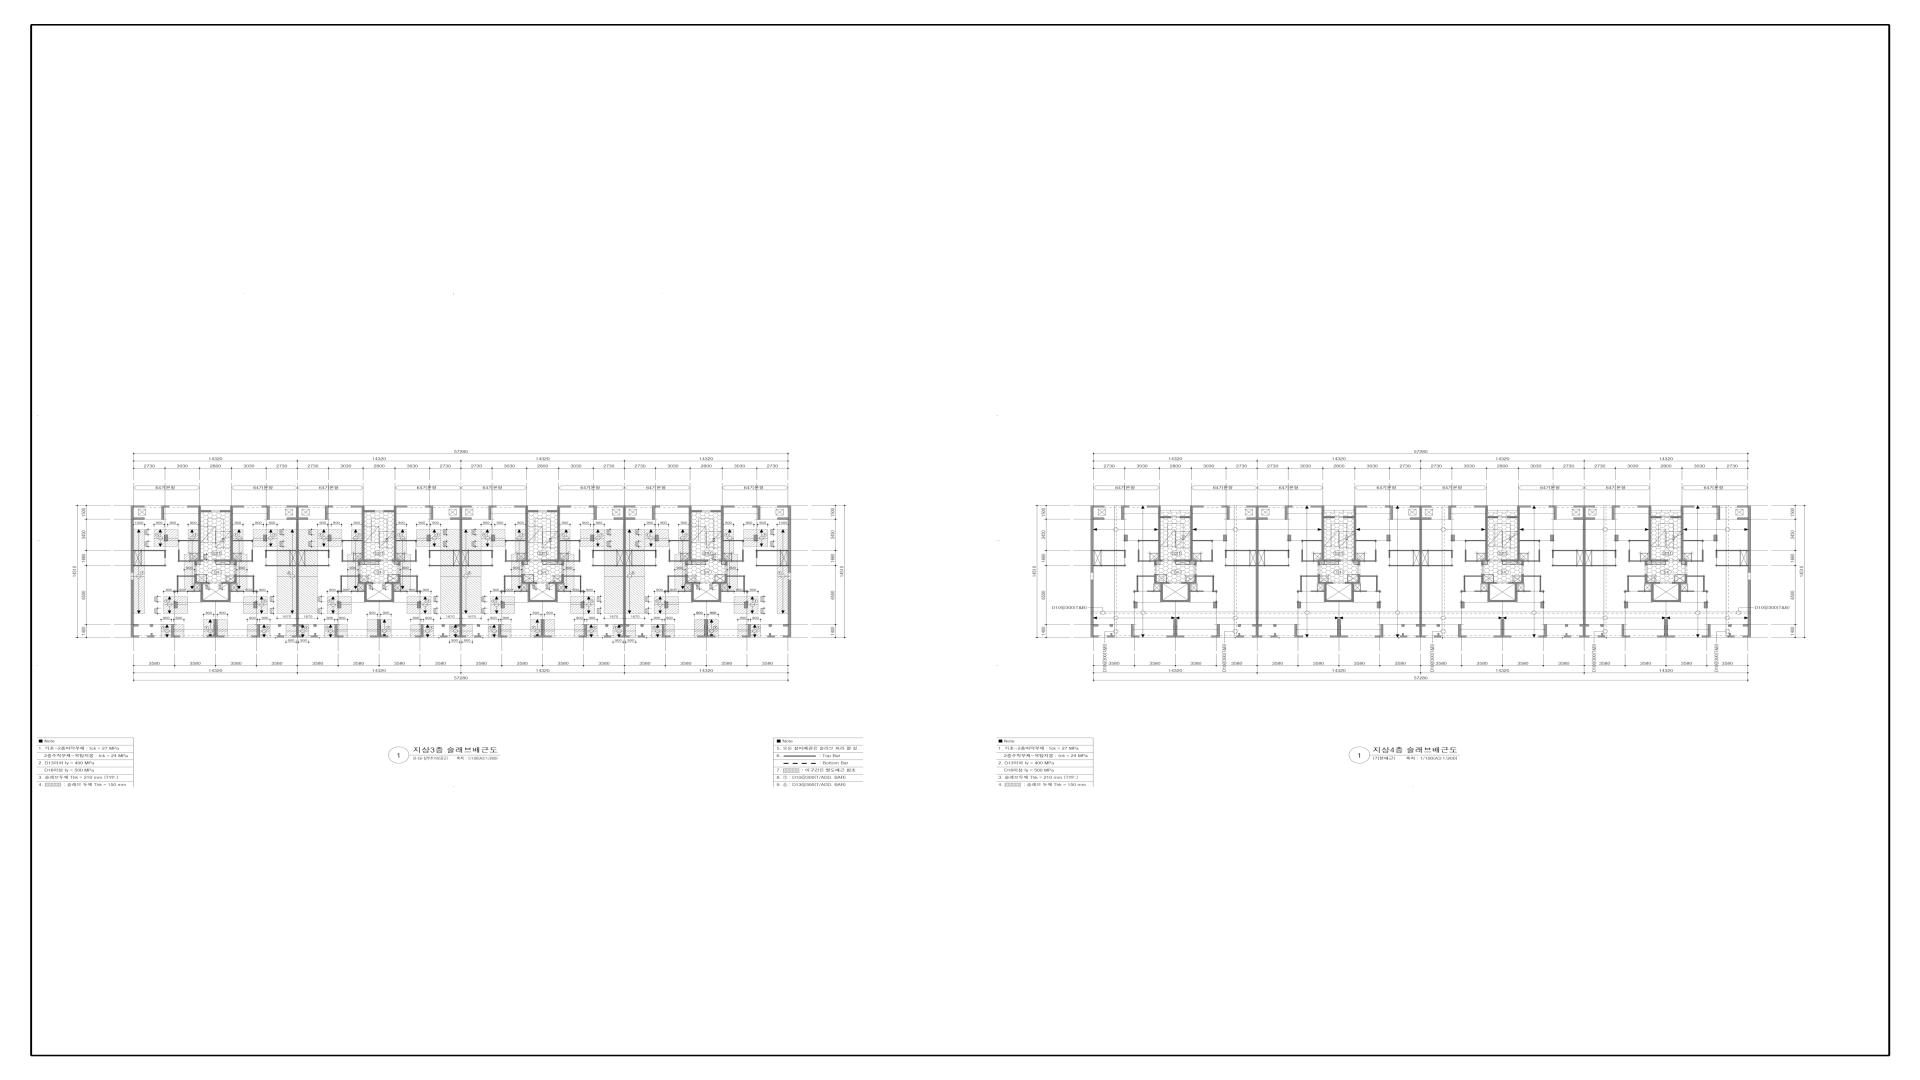wall: (1737, 506, 1751, 572), (778, 506, 791, 572), (230, 505, 244, 565), (1190, 505, 1204, 565), (557, 506, 571, 565), (721, 506, 735, 565), (678, 506, 692, 565), (1517, 506, 1531, 565), (394, 505, 407, 565), (1354, 505, 1367, 565), (351, 506, 364, 565), (515, 506, 528, 565), (1311, 506, 1324, 565), (1475, 506, 1488, 565), (1681, 506, 1694, 565), (1638, 506, 1651, 565), (198, 510, 211, 560), (712, 574, 728, 602), (1481, 574, 1497, 602), (194, 574, 209, 602), (222, 574, 237, 602), (358, 574, 373, 602), (385, 574, 400, 602), (522, 574, 537, 602), (685, 574, 700, 602), (549, 574, 564, 602), (1154, 574, 1169, 602), (1182, 574, 1197, 602), (1318, 574, 1333, 602), (1345, 574, 1360, 602), (1645, 574, 1660, 602), (1509, 574, 1524, 602), (1672, 574, 1687, 602), (1657, 619, 1675, 638), (1330, 619, 1348, 637), (698, 619, 715, 638), (623, 520, 626, 624), (1583, 520, 1586, 624), (207, 619, 224, 637), (371, 619, 388, 637), (534, 619, 551, 637), (1167, 619, 1184, 637), (1494, 619, 1511, 637), (296, 524, 299, 620), (1256, 524, 1259, 620), (756, 550, 789, 558), (1716, 550, 1748, 558), (287, 506, 308, 518), (450, 506, 471, 518), (614, 506, 635, 518), (1247, 506, 1268, 518), (1410, 506, 1431, 518), (1574, 506, 1595, 518), (429, 550, 460, 558), (592, 550, 623, 558), (462, 550, 493, 558), (1389, 550, 1420, 558), (1552, 550, 1583, 558), (1422, 550, 1453, 558), (626, 550, 656, 558), (1586, 550, 1616, 558), (460, 520, 462, 624), (1420, 520, 1422, 624), (400, 550, 417, 562), (1687, 550, 1704, 562), (178, 550, 194, 562), (237, 550, 253, 562), (342, 550, 358, 562), (505, 550, 521, 562), (669, 550, 685, 562), (564, 550, 580, 562), (728, 550, 744, 562), (1138, 550, 1154, 562), (1197, 550, 1213, 562), (1302, 550, 1318, 562), (1465, 550, 1481, 562), (1629, 550, 1645, 562), (1360, 550, 1376, 562), (1524, 550, 1540, 562), (292, 620, 302, 637), (1252, 620, 1262, 637), (1158, 510, 1161, 560), (1748, 580, 1751, 624), (456, 624, 466, 637), (1416, 624, 1426, 637), (171, 624, 180, 637), (498, 624, 507, 637), (742, 624, 751, 637), (620, 624, 629, 637), (1211, 624, 1220, 637), (1580, 624, 1589, 637), (262, 506, 270, 520), (325, 506, 333, 520), (652, 506, 660, 520), (425, 506, 433, 520), (589, 506, 597, 520), (1121, 506, 1129, 520), (1612, 506, 1620, 520), (1385, 506, 1393, 520), (1549, 506, 1557, 520), (131, 520, 133, 572), (252, 624, 260, 637), (335, 624, 343, 637), (662, 624, 670, 637), (415, 624, 423, 637), (579, 624, 587, 637), (783, 624, 791, 637), (1091, 520, 1093, 572), (1131, 624, 1139, 637), (1295, 624, 1303, 637), (1458, 624, 1466, 637), (1622, 624, 1630, 637), (1375, 624, 1383, 637), (1539, 624, 1547, 637), (1702, 624, 1710, 637), (1743, 624, 1751, 637), (162, 506, 169, 520), (489, 506, 496, 520), (753, 506, 760, 520), (1222, 506, 1229, 520), (1285, 506, 1292, 520), (1449, 506, 1456, 520), (1713, 506, 1720, 520), (131, 580, 133, 624), (131, 626, 139, 637), (789, 580, 791, 624), (1091, 580, 1093, 624), (1091, 626, 1098, 637), (530, 600, 555, 602), (694, 600, 719, 602), (203, 600, 228, 602), (367, 600, 392, 602), (1490, 600, 1515, 602), (1654, 600, 1679, 602), (1163, 600, 1188, 602), (1326, 600, 1351, 602), (194, 560, 203, 565), (450, 518, 472, 520), (287, 518, 308, 520), (614, 518, 635, 520), (396, 540, 417, 542), (505, 540, 526, 542), (1247, 518, 1268, 520), (1410, 518, 1431, 520), (1574, 518, 1595, 520), (1683, 540, 1704, 542), (178, 540, 198, 542), (233, 540, 253, 542), (342, 540, 362, 542), (560, 540, 580, 542), (724, 540, 744, 542), (669, 540, 689, 542), (1138, 540, 1158, 542), (1154, 560, 1162, 565), (1193, 540, 1213, 542), (1302, 540, 1322, 542), (1356, 540, 1376, 542), (1520, 540, 1540, 542), (1465, 540, 1485, 542), (1629, 540, 1649, 542), (131, 517, 144, 520), (1091, 517, 1104, 520), (1727, 633, 1734, 638), (364, 560, 381, 562), (1651, 560, 1668, 562), (133, 550, 166, 551), (133, 565, 166, 566), (778, 517, 789, 520), (756, 565, 789, 566), (1093, 550, 1126, 551), (1093, 565, 1126, 566), (1737, 517, 1748, 520), (214, 560, 230, 562), (541, 560, 557, 562), (692, 560, 708, 562), (1174, 560, 1190, 562), (1324, 560, 1340, 562), (1716, 565, 1748, 566), (1501, 560, 1517, 562), (265, 550, 296, 551), (265, 565, 296, 566), (429, 565, 460, 566), (592, 565, 623, 566), (462, 565, 493, 566), (1225, 550, 1256, 551), (1225, 565, 1256, 566), (1258, 565, 1289, 566), (1389, 565, 1420, 566), (1552, 565, 1583, 566), (1422, 565, 1453, 566), (768, 633, 774, 638), (299, 550, 329, 551), (299, 565, 329, 566), (626, 565, 656, 566), (1259, 550, 1289, 551), (1586, 565, 1616, 566), (147, 633, 154, 637), (174, 601, 178, 608), (277, 633, 284, 637), (311, 633, 318, 637), (474, 633, 481, 637), (638, 633, 645, 637), (604, 633, 611, 637), (337, 601, 341, 608), (501, 601, 505, 608), (417, 601, 421, 608), (744, 601, 748, 608), (416, 577, 418, 591), (1107, 633, 1114, 637), (1213, 601, 1217, 608), (1237, 633, 1244, 637), (1434, 633, 1441, 637), (1598, 633, 1605, 637), (1400, 633, 1407, 637), (1564, 633, 1571, 637), (1300, 577, 1302, 591), (1297, 601, 1301, 608), (1624, 601, 1628, 608), (1377, 601, 1381, 608), (1704, 601, 1708, 608), (1376, 577, 1378, 591), (1627, 577, 1629, 591), (1703, 577, 1705, 591), (164, 535, 168, 541), (263, 535, 267, 541), (441, 633, 447, 637), (427, 535, 431, 541), (491, 535, 495, 541), (655, 535, 659, 541), (754, 535, 758, 541), (1124, 535, 1128, 541), (1223, 535, 1227, 541), (1271, 633, 1277, 637), (1451, 535, 1455, 541), (1550, 535, 1554, 541), (1714, 535, 1718, 541), (131, 507, 133, 518), (220, 510, 231, 512), (364, 510, 375, 512), (547, 510, 558, 512), (691, 510, 702, 512), (1091, 507, 1093, 518), (1651, 516, 1662, 518), (254, 601, 257, 608), (665, 601, 668, 608), (581, 601, 584, 608), (1134, 601, 1137, 608), (1461, 601, 1464, 608), (1541, 601, 1544, 608), (384, 510, 394, 512), (528, 510, 538, 512), (711, 510, 721, 512), (1161, 516, 1171, 518), (1180, 516, 1190, 518), (1324, 516, 1334, 518), (1344, 516, 1354, 518), (1488, 516, 1498, 518), (1507, 516, 1517, 518), (1671, 516, 1681, 518), (328, 535, 331, 541), (591, 535, 594, 541), (400, 576, 418, 577), (504, 576, 522, 577), (1288, 535, 1291, 541), (1387, 535, 1390, 541), (1615, 535, 1618, 541), (1300, 576, 1318, 577), (1360, 576, 1378, 577), (1687, 576, 1705, 577), (177, 576, 194, 577), (237, 576, 254, 577), (341, 576, 358, 577), (564, 576, 581, 577), (668, 576, 685, 577), (728, 576, 745, 577), (1137, 576, 1154, 577), (1197, 576, 1214, 577), (1464, 576, 1481, 577), (1524, 576, 1541, 577), (1628, 576, 1645, 577), (164, 551, 166, 558), (131, 624, 138, 626), (187, 506, 201, 507), (177, 577, 178, 591), (187, 591, 201, 592), (253, 577, 254, 591), (230, 591, 244, 592), (265, 551, 267, 558), (341, 577, 342, 591), (504, 577, 505, 591), (580, 577, 581, 591), (668, 577, 669, 591), (744, 577, 745, 591), (1124, 551, 1126, 558), (1091, 624, 1098, 626), (1147, 506, 1161, 507), (1137, 577, 1138, 591), (1213, 577, 1214, 591), (1225, 551, 1227, 558), (1464, 577, 1465, 591), (1540, 577, 1541, 591), (1474, 591, 1488, 592), (678, 591, 691, 592), (721, 591, 734, 592), (131, 506, 144, 507), (351, 591, 364, 592), (394, 591, 407, 592), (515, 591, 528, 592), (558, 591, 571, 592), (1638, 591, 1651, 592), (1681, 591, 1694, 592), (1091, 506, 1104, 507), (1147, 591, 1160, 592), (1190, 591, 1203, 592), (1311, 591, 1324, 592), (1354, 591, 1367, 592), (1518, 591, 1531, 592), (296, 520, 299, 524), (337, 591, 343, 593), (1624, 591, 1630, 593), (1600, 624, 1604, 627), (579, 591, 584, 593), (665, 591, 670, 593), (743, 591, 748, 593), (174, 591, 179, 593), (252, 591, 257, 593), (416, 591, 421, 593), (501, 591, 506, 593), (1539, 591, 1544, 593), (1703, 591, 1708, 593), (1134, 591, 1139, 593), (1212, 591, 1217, 593), (1297, 591, 1302, 593), (1376, 591, 1381, 593), (1461, 591, 1466, 593), (150, 624, 153, 627), (198, 507, 201, 510), (278, 624, 281, 627), (314, 624, 317, 627), (477, 624, 480, 627), (641, 624, 644, 627), (442, 624, 445, 627), (605, 624, 608, 627), (769, 624, 772, 627), (1110, 624, 1113, 627), (1158, 507, 1161, 510), (1238, 624, 1241, 627), (1273, 624, 1276, 627), (1437, 624, 1440, 627), (1402, 624, 1405, 627), (1565, 624, 1568, 627), (1729, 624, 1732, 627), (1256, 520, 1258, 524), (328, 551, 329, 558), (1288, 551, 1289, 558), (392, 560, 394, 562), (528, 560, 530, 562), (719, 560, 721, 562), (1352, 560, 1354, 562), (1679, 560, 1681, 562), (1488, 560, 1489, 562)
